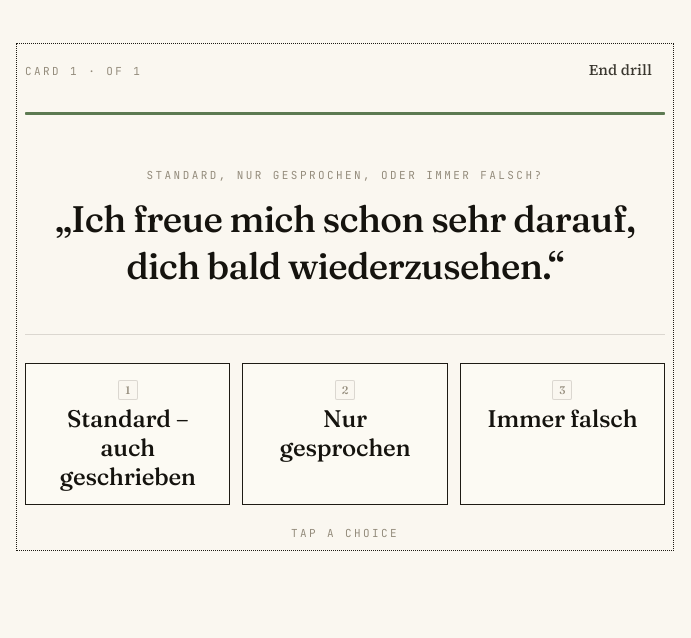
Test case: RegisterRunner — smoke tests › shows success feedback when the correct verdict is picked
This screenshot has width=691, height=638.
Click the button with class "choice" showing "1 Standard – auch geschrieben".
click(128, 434)  # box [25,363,230,505]
(page scrolled)
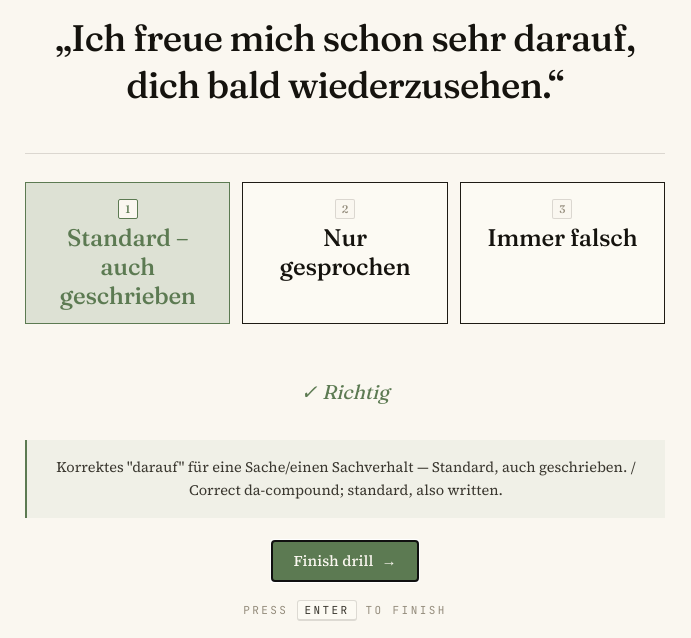
Expected: the text "✓ Richtig" is shown, [301,376,389,408]
